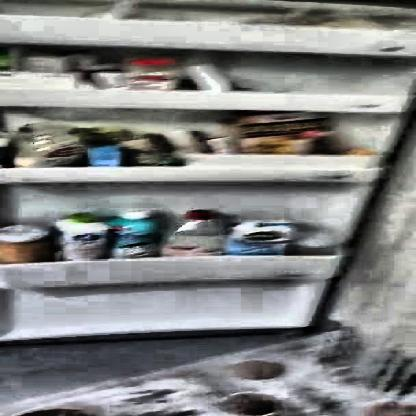heavy_cream: (86, 143, 124, 165)
milk: (53, 214, 108, 258), (226, 219, 289, 255)
